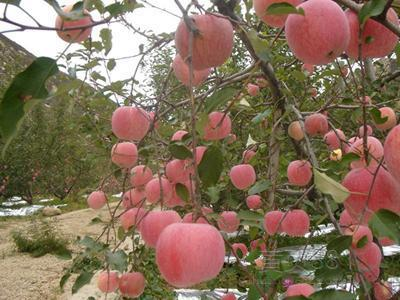apple: (152, 221, 224, 287), (285, 2, 348, 66), (172, 14, 234, 71), (303, 113, 328, 136)
